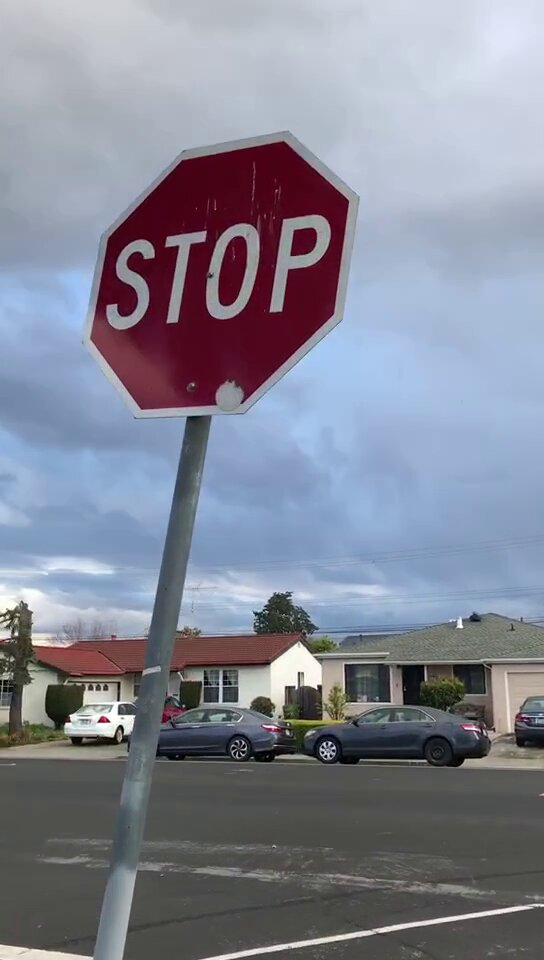stop_sign: (86, 134, 359, 416)
